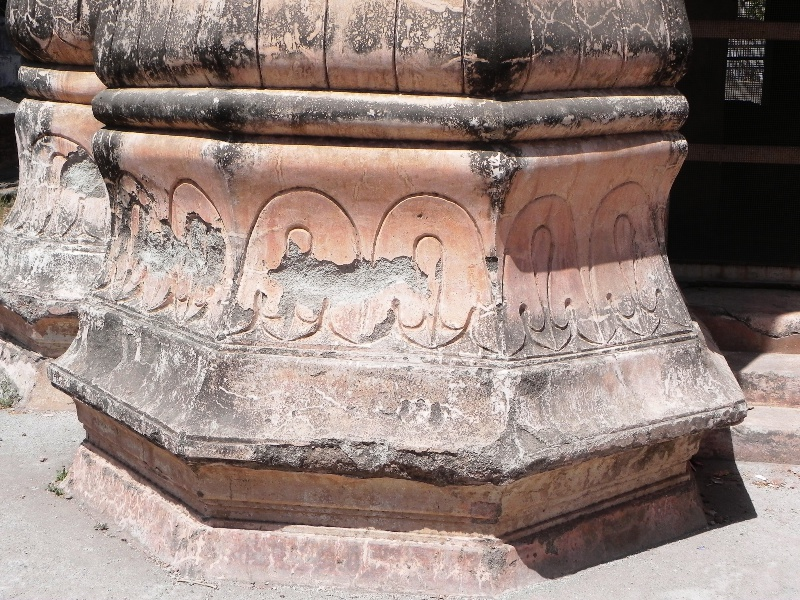Spalling: (256, 435, 502, 486), (268, 241, 437, 305), (147, 212, 230, 285)
